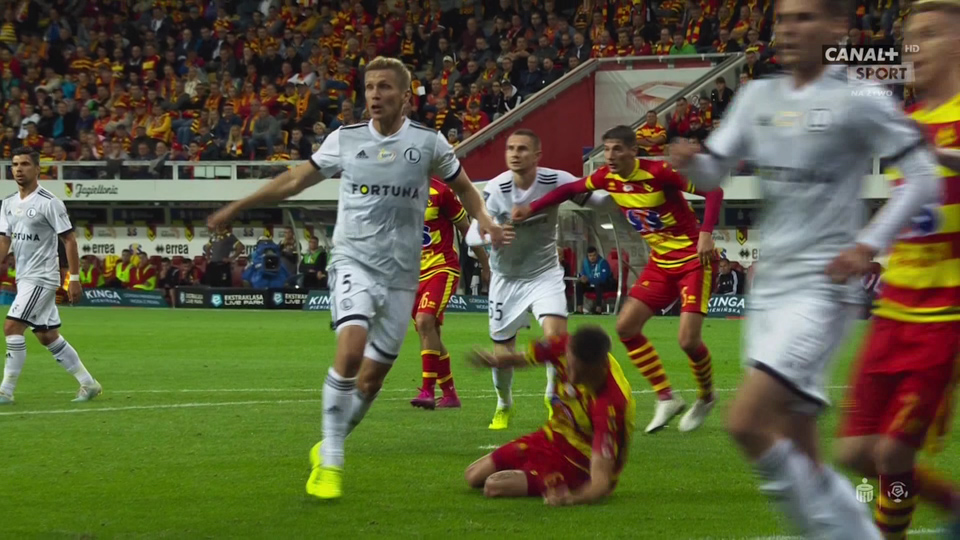Adidas: (354, 149, 369, 160)
